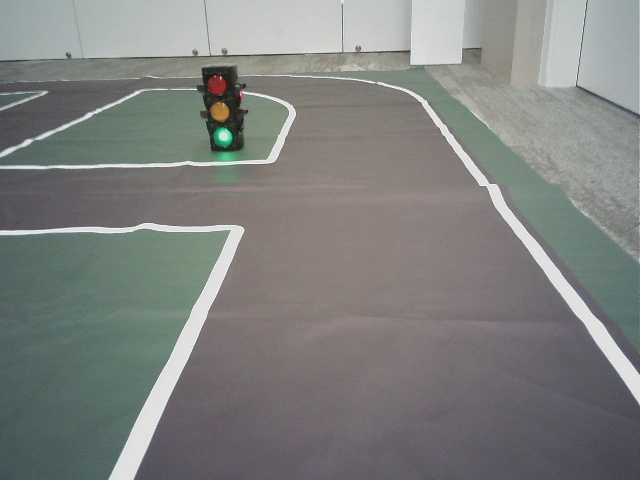green: (202, 69, 234, 145)
